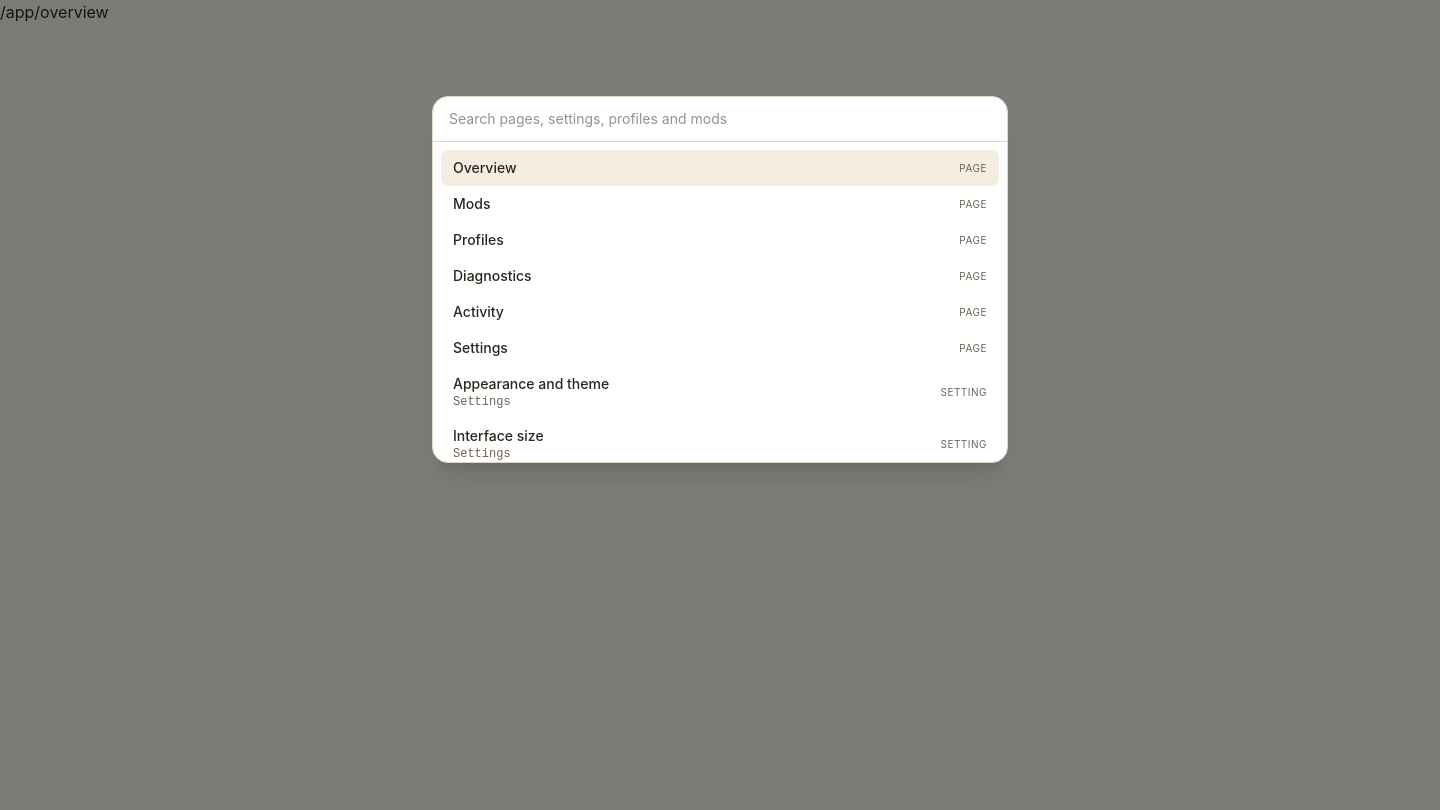
Scenario: global search dialog › says which sources could not be searched
Type "qqqqqq" into the dropdown labelled "Search" at (720, 120), box [433,97,1007,142]
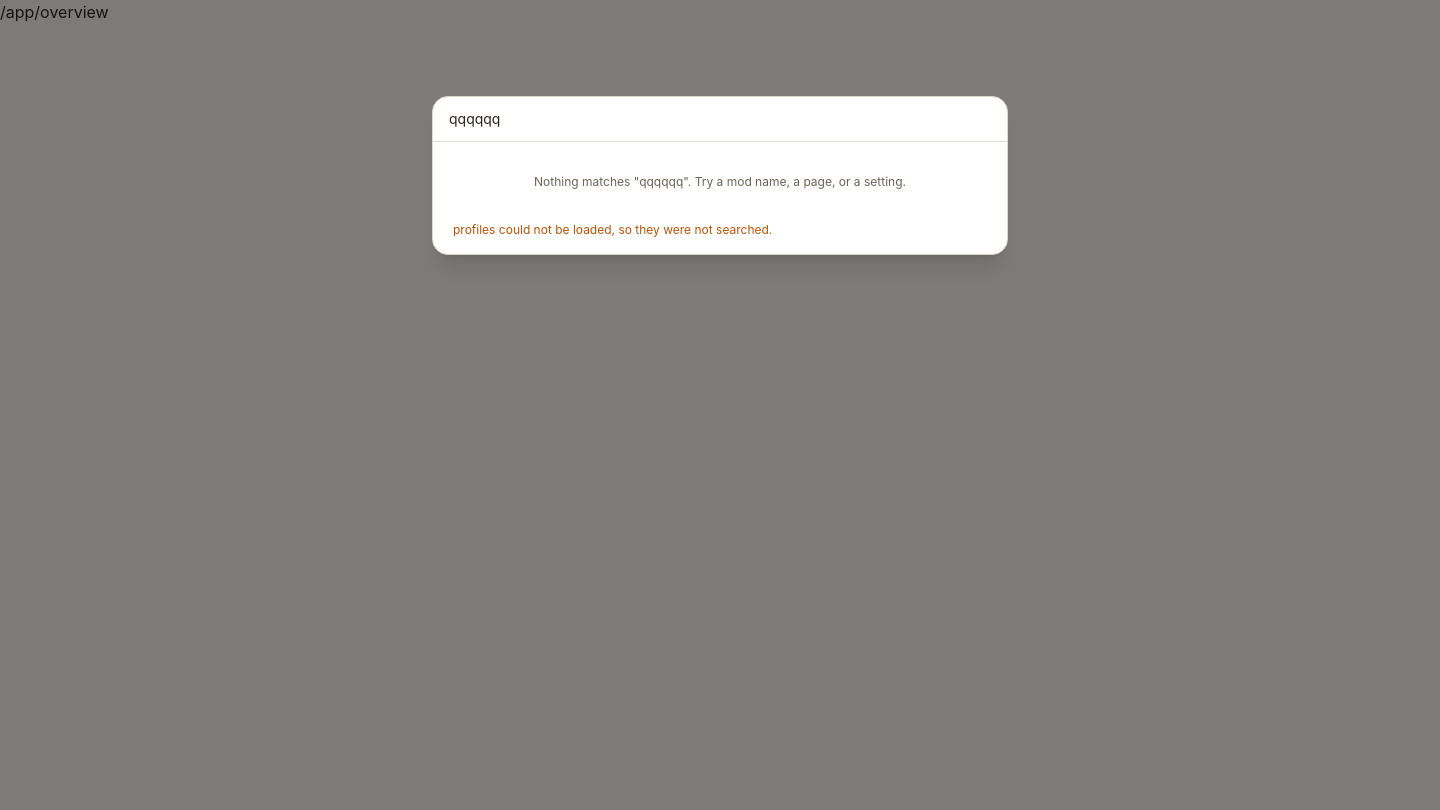
Expected: the message "profiles could not be loaded, so they were not searched." is shown, [453,222,772,237]
